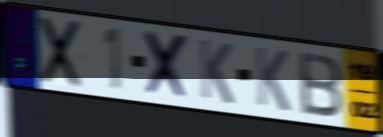1: (101, 26, 123, 93)
B: (296, 49, 344, 120)
K: (197, 37, 236, 107), (253, 44, 292, 114)
X: (142, 28, 191, 103), (39, 14, 84, 90)
